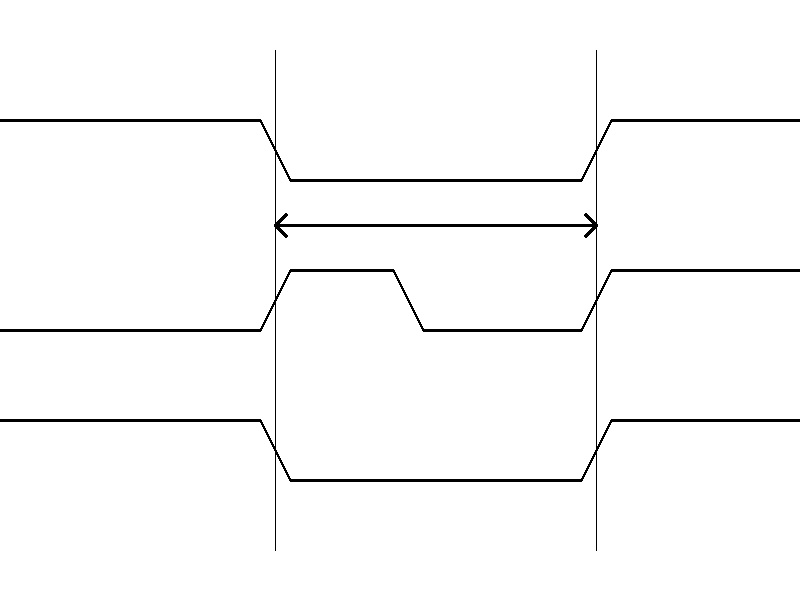double_arrow: (275, 210, 596, 240)
